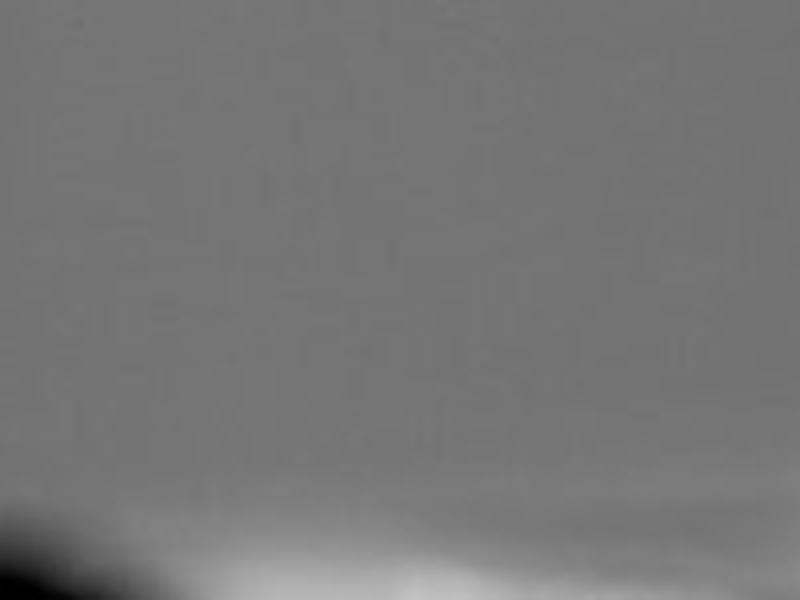defect: (1, 530, 150, 600)
